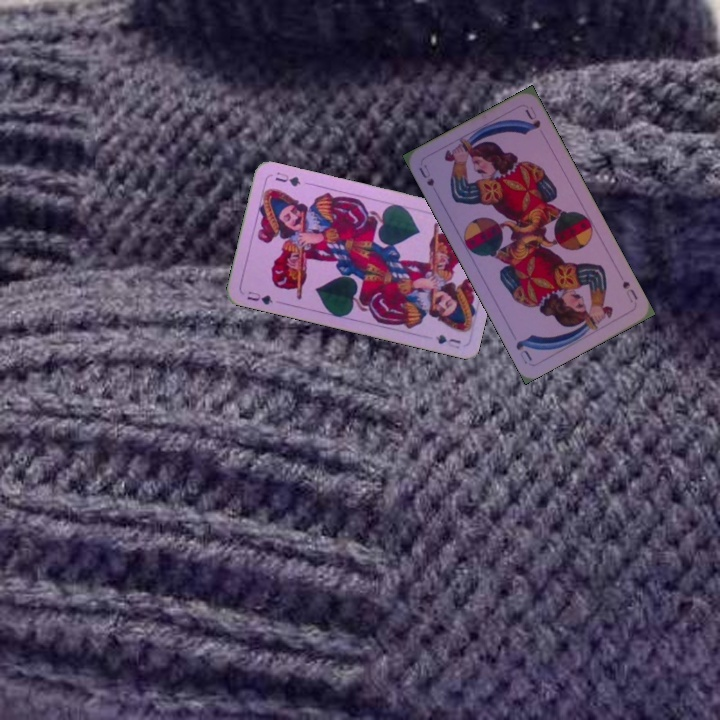GU: (243, 287, 275, 307)
SU: (415, 160, 437, 189), (618, 277, 640, 306)
